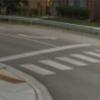crosswalks: (20, 51, 100, 76)
